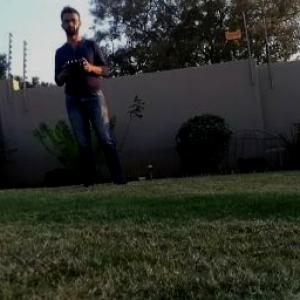follow: (50, 0, 136, 194)
